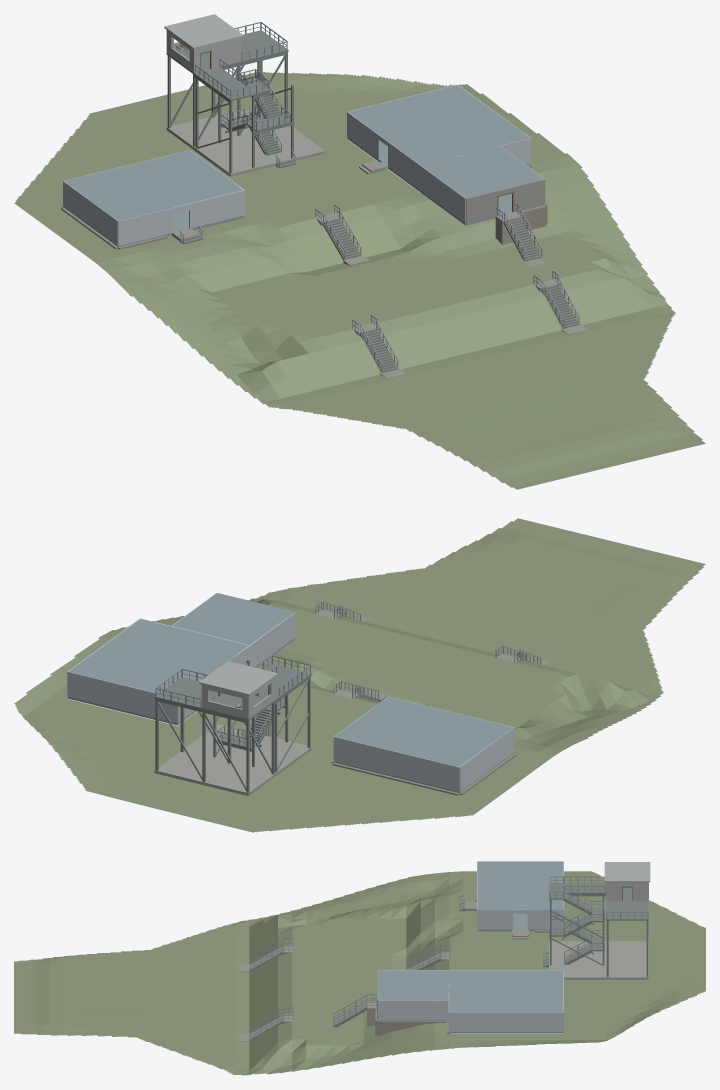
File: authored-service-bay.glb
3 renders of one model, top to bottom at view 1: azimuth 30°, elevation 25°; view 2: azimuth 150°, elevation 25°; view 3: azimuth 270°, elevation 25°, orthographic. The views are drawn at different scales.
Visible parts, largest first — view 1: Saved editor geographic Lookout terraces, Ceiling cap ruin, Ceiling cap hut, WLD-04 restart continuous grounded tower plinth region0, Ceiling cap store, Bayed shell Wall hut S, WLD-04 restart cab closed roof region0, Wall hut W, WLD-04 restart cab and observation deck region0, Wall store W, WLD-04 restart west level access gallery region0, Flat route shell Wall ruin W (+4 smaller); view 2: Saved editor geographic Lookout terraces, Ceiling cap ruin, Ceiling cap hut, WLD-04 restart continuous grounded tower plinth region0, Ceiling cap store, Wall hut N, Wall ruin N, WLD-04 restart cab closed roof region0, WLD-04 restart cab and observation deck region0, Wall hut W, Wall store W, WLD-04 restart west level access gallery region0; view 3: Saved editor geographic Lookout terraces, Ceiling cap ruin, Ceiling cap hut, WLD-04 restart continuous grounded tower plinth region0, Wall ruin E, Ceiling cap store, Wall store E, WLD-04 restart cab closed roof region0, WLD-04 restart cab and observation deck region0, Flat route shell Wall hut E.001, WLD-04 restart west level access gallery region0, Flat route shell Wall hut E (+1 smaller).
Boxes of the visible parts, x1,y1,x2,y2 form: Saved editor geographic Lookout terraces: (14,72,705,489); Ceiling cap ruin: (348,85,530,164); Ceiling cap hut: (64,150,242,220); WLD-04 restart continuous grounded tower plinth region0: (166,106,324,176); Ceiling cap store: (420,146,544,198); Bayed shell Wall hut S: (118,190,244,245); WLD-04 restart cab closed roof region0: (164,14,243,49); Wall hut W: (63,181,118,245); WLD-04 restart cab and observation deck region0: (166,30,288,74); Wall store W: (419,165,465,223); WLD-04 restart west level access gallery region0: (194,67,256,101); Flat route shell Wall ruin W: (347,112,379,159); Saved editor geographic Lookout terraces: (14,518,705,832); Ceiling cap ruin: (69,619,248,693); Ceiling cap hut: (334,697,513,766); WLD-04 restart continuous grounded tower plinth region0: (154,724,311,795); Ceiling cap store: (172,593,294,644); Wall hut N: (334,736,459,791); Wall ruin N: (67,671,177,722); WLD-04 restart cab closed roof region0: (199,661,278,695); WLD-04 restart cab and observation deck region0: (154,677,275,720); Wall hut W: (459,727,514,791); Wall store W: (250,612,295,667); WLD-04 restart west level access gallery region0: (259,667,311,700); Saved editor geographic Lookout terraces: (14,871,705,1075); Ceiling cap ruin: (449,970,563,1012); Ceiling cap hut: (477,861,563,909); WLD-04 restart continuous grounded tower plinth region0: (549,941,648,979); Wall ruin E: (449,1012,563,1031); Ceiling cap store: (378,970,449,1000); Wall store E: (378,1000,448,1019); WLD-04 restart cab closed roof region0: (604,862,650,882); WLD-04 restart cab and observation deck region0: (606,887,648,920); Flat route shell Wall hut E.001: (477,910,513,929); WLD-04 restart west level access gallery region0: (549,883,605,894); Flat route shell Wall hut E: (527,910,563,929).
Bounding box in the file's own units: 59 × 18.6 × 97.
Materials: 26 (13 with a texture image).
